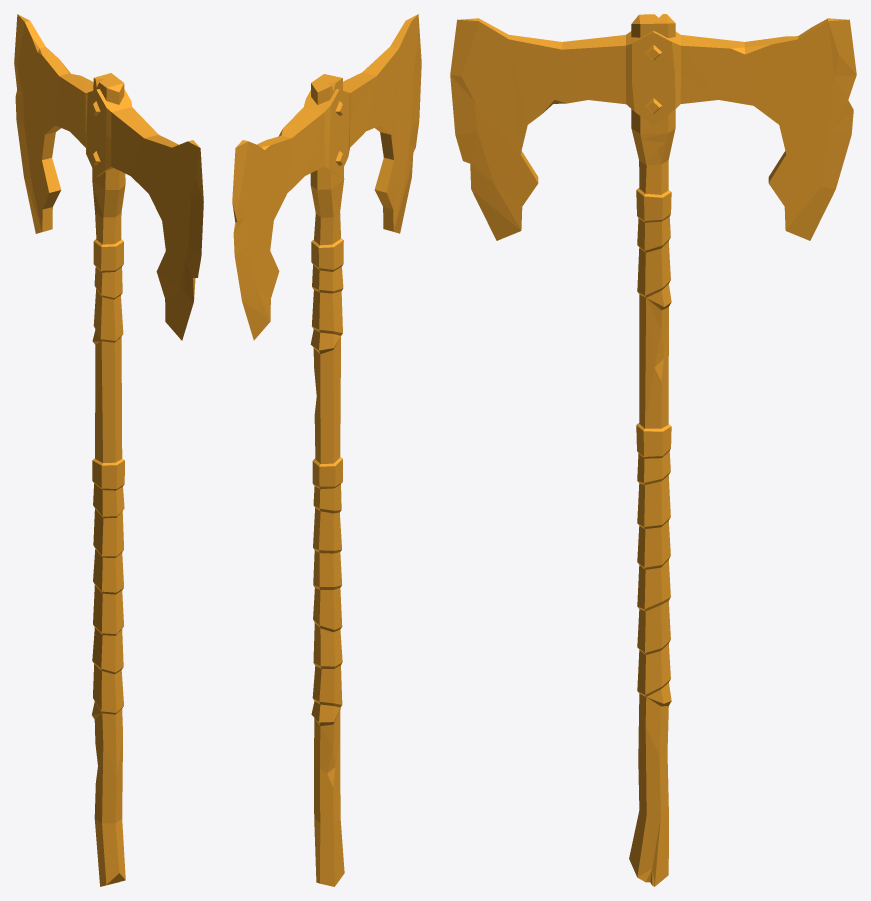
File: SM_War_Axe_Fantasy.fbx
The picture shows the model from 3 angles, left to right: view 1: azimuth 30°, elevation 25°; view 2: azimuth 150°, elevation 25°; view 3: azimuth 270°, elevation 25°; orthographic projection. The views are drawn at different scales.
Parts seen in each view (by area): view 1: war-axe-fantasy; view 2: war-axe-fantasy; view 3: war-axe-fantasy.
Part boxes in pixels (x1=…): war-axe-fantasy: x1=14, y1=14, x2=203, y2=886; war-axe-fantasy: x1=232, y1=14, x2=421, y2=886; war-axe-fantasy: x1=450, y1=14, x2=856, y2=886.
Bounding box in the file's own units: 0.0459 × 1.11 × 0.4735.
